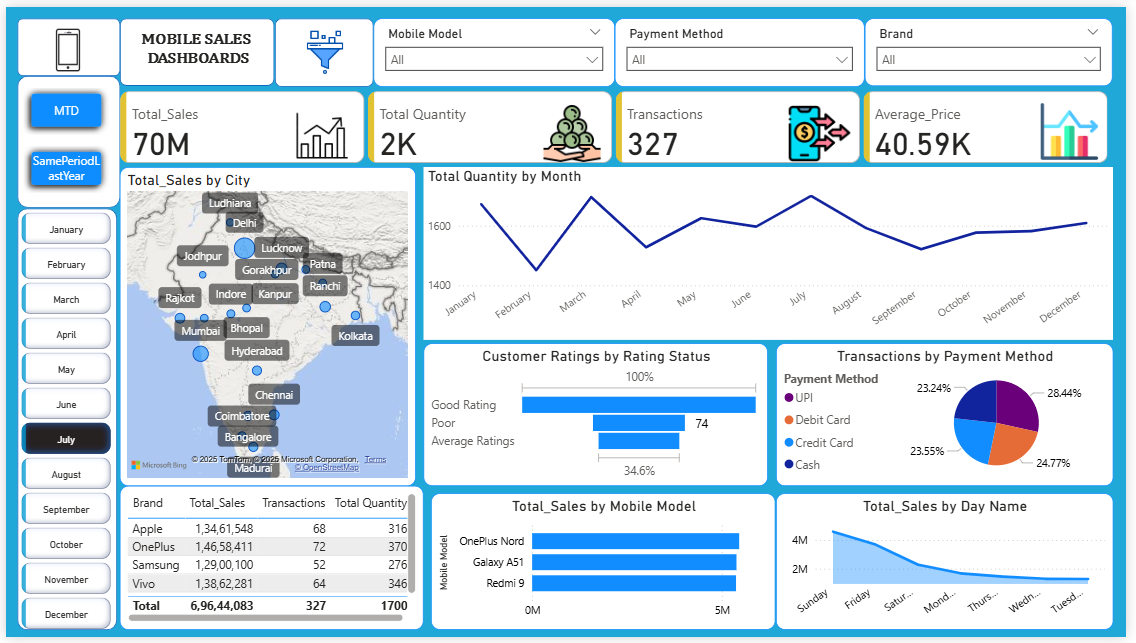

The dashboard page shown, as its layout file describes it:
{"tool":"powerbi","page":{"name":"Dashboard","canvas":[1280,720],"ordinal":0},"visuals":[{"type":"shape","box":[12.3,12.3,117.8,66.3],"z":0},{"type":"image","box":[33.1,19.6,76.1,58.9],"z":1000},{"type":"shape","box":[12.3,78.5,117.8,150.9],"z":2000},{"type":"shape","box":[12.3,229.4,114.1,482.2],"z":3000},{"type":"advancedSlicerVisual","fields":{"Values":["custom calender.Date.Variation.Date Hierarchy.Month"]},"box":[12.3,229.4,112.9,490.8],"z":4000},{"type":"cardVisual","fields":{"Data":["Mobile Sales Data.Total_Sales","Mobile Sales Data.Total Quantity","Mobile Sales Data.Transactions","Mobile Sales Data.Average_Price"]},"box":[125.2,90.8,1139.9,92],"z":5000},{"type":"slicer","fields":{"Values":["Mobile Sales Data.Mobile Model"]},"box":[419.6,12.3,276.1,78.5],"z":6000},{"type":"slicer","fields":{"Values":["Mobile Sales Data.Payment Method"]},"box":[695.7,12.3,285.9,78.5],"z":7000},{"type":"slicer","fields":{"Values":["Mobile Sales Data.Brand"]},"box":[981.6,12.3,283.4,77.3],"z":8000},{"type":"shape","box":[306.8,12.3,112.9,78.5],"z":9000},{"type":"image","box":[308,20.9,111.7,61.4],"z":10000},{"type":"shape","box":[130.1,12.3,176.7,77.3],"z":11000},{"type":"textbox","box":[142.3,22.1,152.1,54],"z":12000},{"type":"map","fields":{"Category":["Mobile Sales Data.City"],"Size":["Mobile Sales Data.Total_Sales"]},"box":[130.1,182.8,338.7,364.4],"z":13000},{"type":"lineChart","fields":{"Y":["Mobile Sales Data.Total Quantity"],"Category":["custom calender.Date.Variation.Date Hierarchy.Month"]},"box":[477.3,182.8,787.7,197.5],"z":14000},{"type":"funnel","title":"Customer Ratings by Rating Status","fields":{"Category":["Mobile Sales Data.Rating Status"],"Y":["CountNonNull(Mobile Sales Data.Customer Ratings)"]},"box":[477.3,384.1,393.9,163.2],"z":15000},{"type":"pieChart","fields":{"Y":["Mobile Sales Data.Transactions"],"Category":["Mobile Sales Data.Payment Method"]},"box":[879.8,384.1,385.3,163.2],"z":16000},{"type":"clusteredBarChart","fields":{"Y":["Mobile Sales Data.Total_Sales"],"Category":["Mobile Sales Data.Mobile Model"]},"box":[485.9,555.8,393.9,155.8],"z":17000},{"type":"areaChart","fields":{"Y":["Mobile Sales Data.Total_Sales"],"Category":["custom calender.Day Name"]},"box":[879.8,555.8,385.3,155.8],"z":18000},{"type":"tableEx","fields":{"Values":["Mobile Sales Data.Brand","Mobile Sales Data.Total_Sales","Mobile Sales Data.Transactions","Mobile Sales Data.Total Quantity"]},"box":[130.1,547.2,347.2,164.4],"z":19000},{"type":"pageNavigator","box":[19.6,89.6,98.2,123.9],"z":20000}]}

Visuals, with their boxes in screenshot pixels (x1, y1, x2, y2), scaled from the page's 1280x720 canvas onto the 1136x643 screenshot:
shape: rect(11, 11, 115, 70)
image: rect(29, 18, 97, 70)
shape: rect(11, 70, 115, 205)
shape: rect(11, 205, 112, 635)
advancedSlicerVisual - custom calender.Date.Variation.Date Hierarchy.Month: rect(11, 205, 111, 642)
cardVisual - Mobile Sales Data.Total_Sales x Mobile Sales Data.Total Quantity: rect(111, 81, 1123, 163)
slicer - Mobile Sales Data.Mobile Model: rect(372, 11, 617, 81)
slicer - Mobile Sales Data.Payment Method: rect(617, 11, 871, 81)
slicer - Mobile Sales Data.Brand: rect(871, 11, 1123, 80)
shape: rect(272, 11, 372, 81)
image: rect(273, 19, 372, 73)
shape: rect(115, 11, 272, 80)
textbox: rect(126, 20, 261, 68)
map - Mobile Sales Data.City x Mobile Sales Data.Total_Sales: rect(115, 163, 416, 489)
lineChart - Mobile Sales Data.Total Quantity x custom calender.Date.Variation.Date Hierarchy.Month: rect(424, 163, 1123, 340)
"Customer Ratings by Rating Status" funnel: rect(424, 343, 773, 489)
pieChart - Mobile Sales Data.Transactions x Mobile Sales Data.Payment Method: rect(781, 343, 1123, 489)
clusteredBarChart - Mobile Sales Data.Total_Sales x Mobile Sales Data.Mobile Model: rect(431, 496, 781, 635)
areaChart - Mobile Sales Data.Total_Sales x custom calender.Day Name: rect(781, 496, 1123, 635)
tableEx - Mobile Sales Data.Brand x Mobile Sales Data.Total_Sales: rect(115, 489, 424, 635)
pageNavigator: rect(17, 80, 105, 191)
